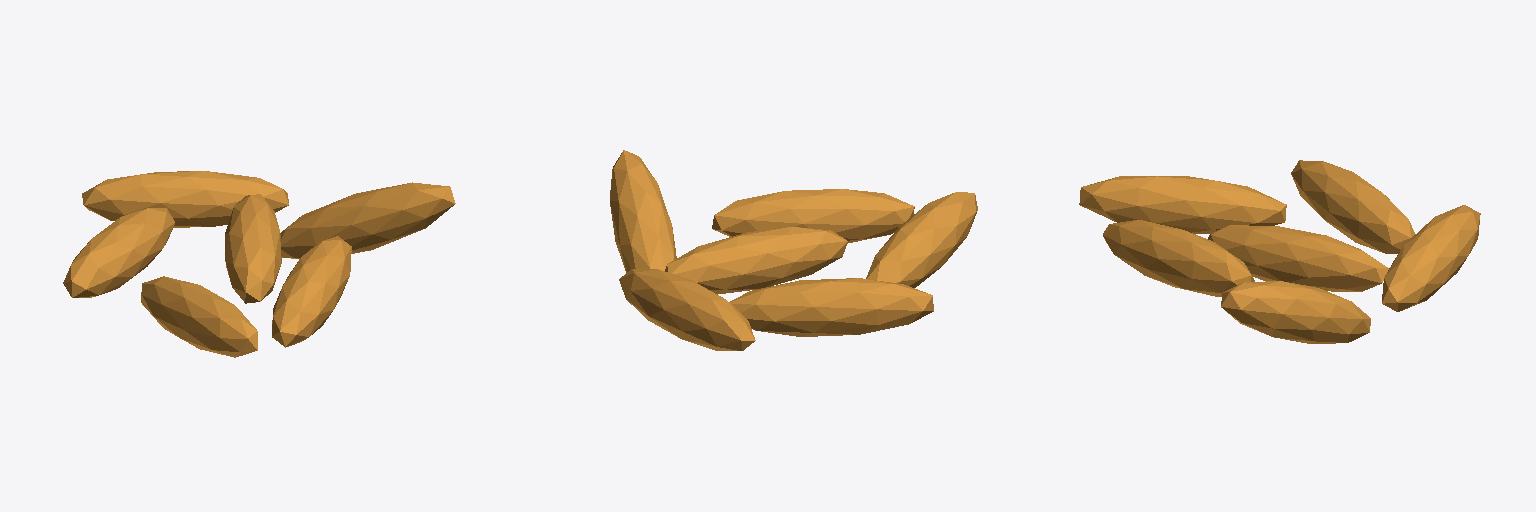
File: RiceSeed.obj
The picture shows the model from 3 angles: view 1: azimuth 30°, elevation 25°; view 2: azimuth 150°, elevation 25°; view 3: azimuth 270°, elevation 25°; orthographic projection.
Parts seen in each view (by area): view 1: Icosphere.005, Icosphere.002, Icosphere.004, Icosphere.003, Icosphere.001, Icosphere; view 2: Icosphere.003, Icosphere, Icosphere.001, Icosphere.002, Icosphere.004, Icosphere.005; view 3: Icosphere.004, Icosphere, Icosphere.005, Icosphere.001, Icosphere.003, Icosphere.002.
Boxes of the visible parts, x1=… form: Icosphere.005: x1=280, y1=182, x2=455, y2=258; Icosphere.002: x1=82, y1=171, x2=288, y2=227; Icosphere.004: x1=141, y1=276, x2=257, y2=357; Icosphere.003: x1=63, y1=208, x2=174, y2=297; Icosphere.001: x1=272, y1=236, x2=351, y2=347; Icosphere: x1=225, y1=194, x2=281, y2=303; Icosphere.003: x1=729, y1=278, x2=933, y2=336; Icosphere: x1=665, y1=227, x2=847, y2=294; Icosphere.001: x1=712, y1=189, x2=914, y2=243; Icosphere.002: x1=619, y1=269, x2=755, y2=350; Icosphere.004: x1=866, y1=192, x2=977, y2=287; Icosphere.005: x1=610, y1=150, x2=676, y2=272; Icosphere.004: x1=1079, y1=176, x2=1286, y2=233; Icosphere: x1=1208, y1=225, x2=1388, y2=291; Icosphere.005: x1=1221, y1=281, x2=1370, y2=343; Icosphere.001: x1=1103, y1=220, x2=1254, y2=296; Icosphere.003: x1=1291, y1=160, x2=1414, y2=253; Icosphere.002: x1=1382, y1=205, x2=1480, y2=311.
Bounding box in the file's own units: 3.33 × 0.8453 × 3.31.